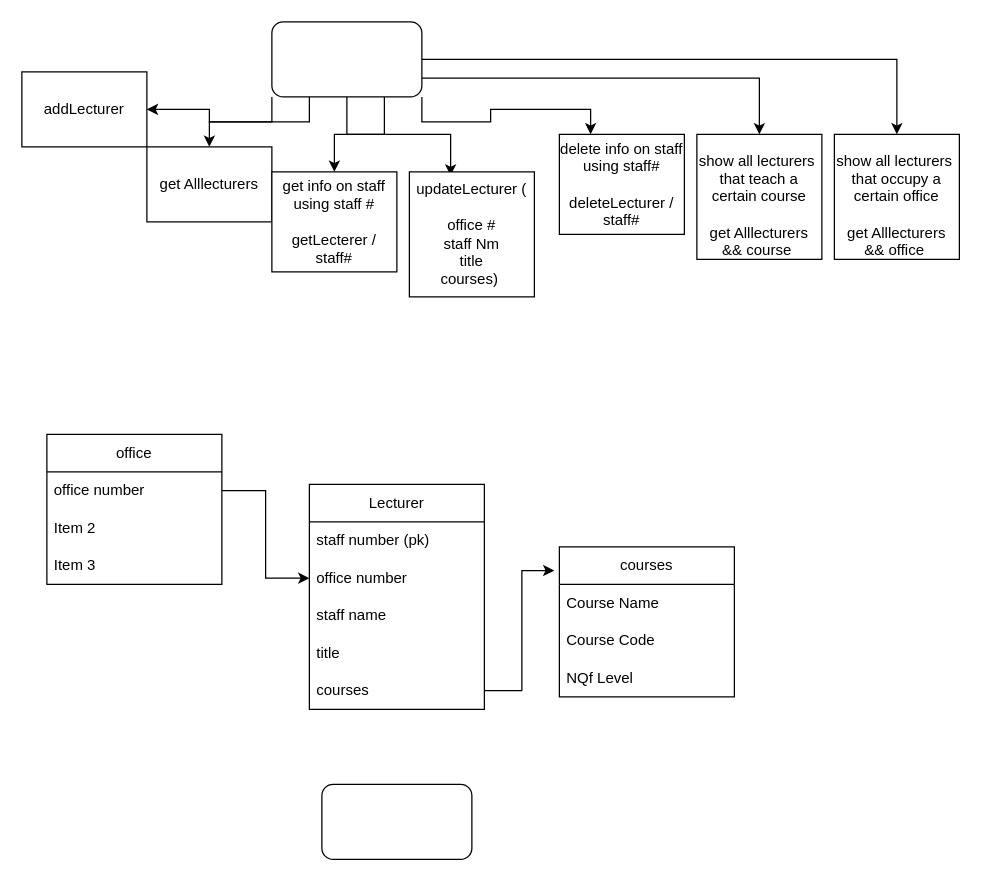
Image size: 981x881. Some labels were removed from this diagram. The centre of each missing label's shape, as x and y in pixels:
"API definition" belongs at (396,821).
"managing staff" belongs at (346,59).
